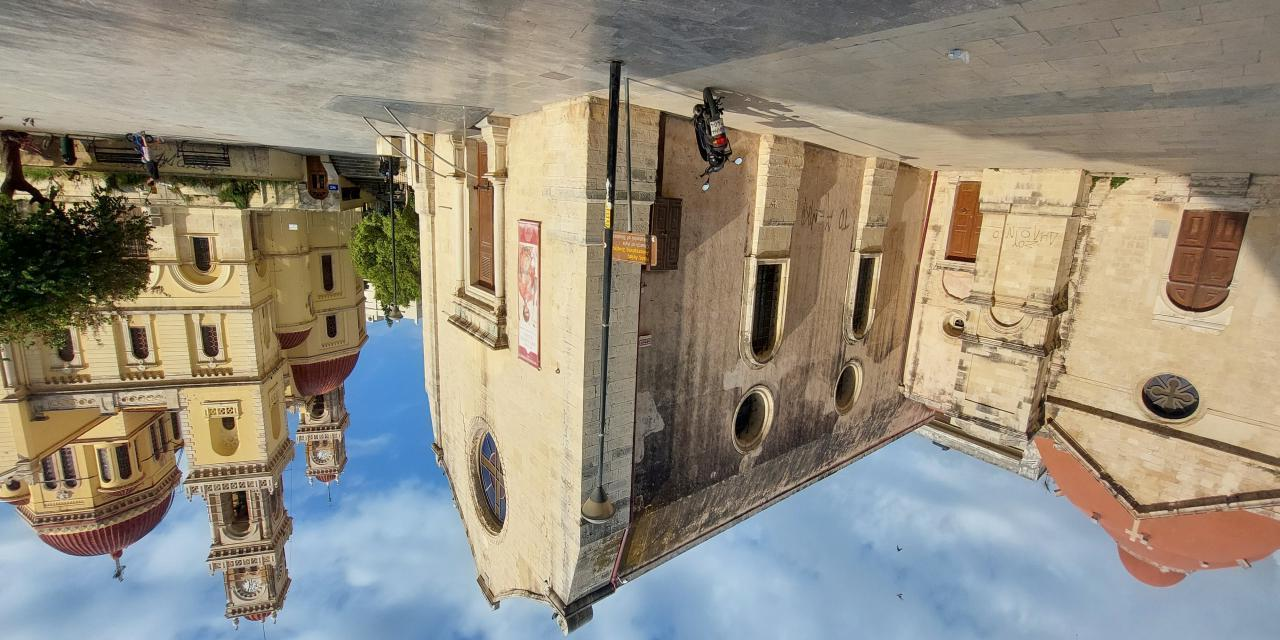Agia Aikaterini: (411, 90, 1279, 640)
